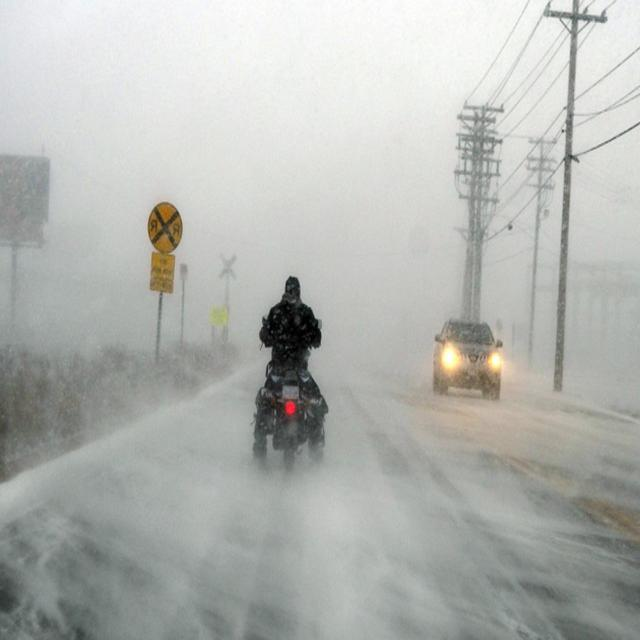Car: (433, 313, 508, 402)
Cycle: (248, 273, 332, 470)
